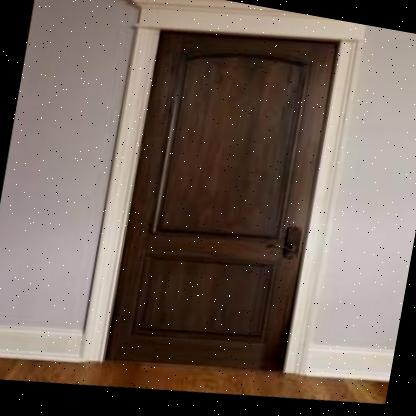door: (93, 15, 346, 395)
